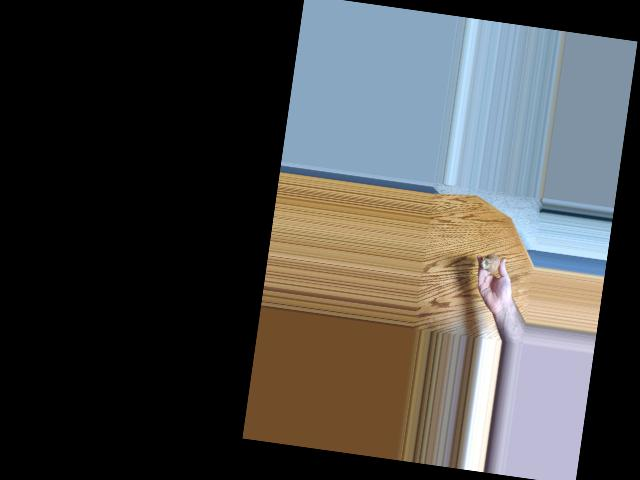sweet_potato: (481, 251, 501, 272)
